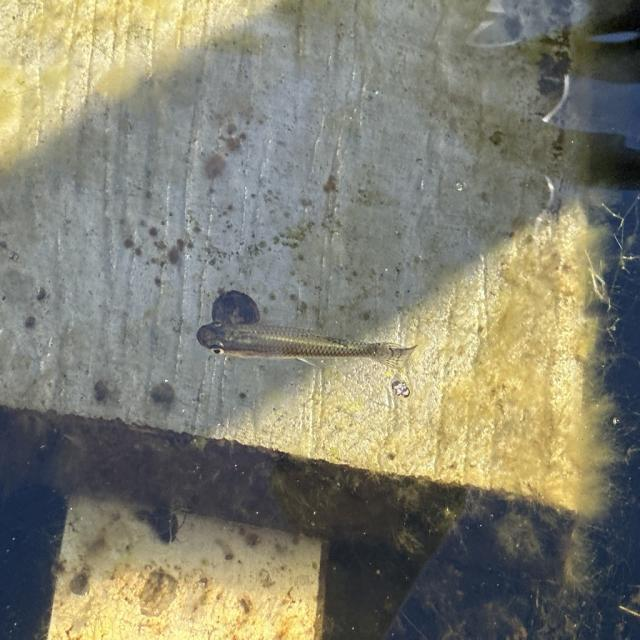Sivrisinek Baligi: (194, 288, 419, 370)
